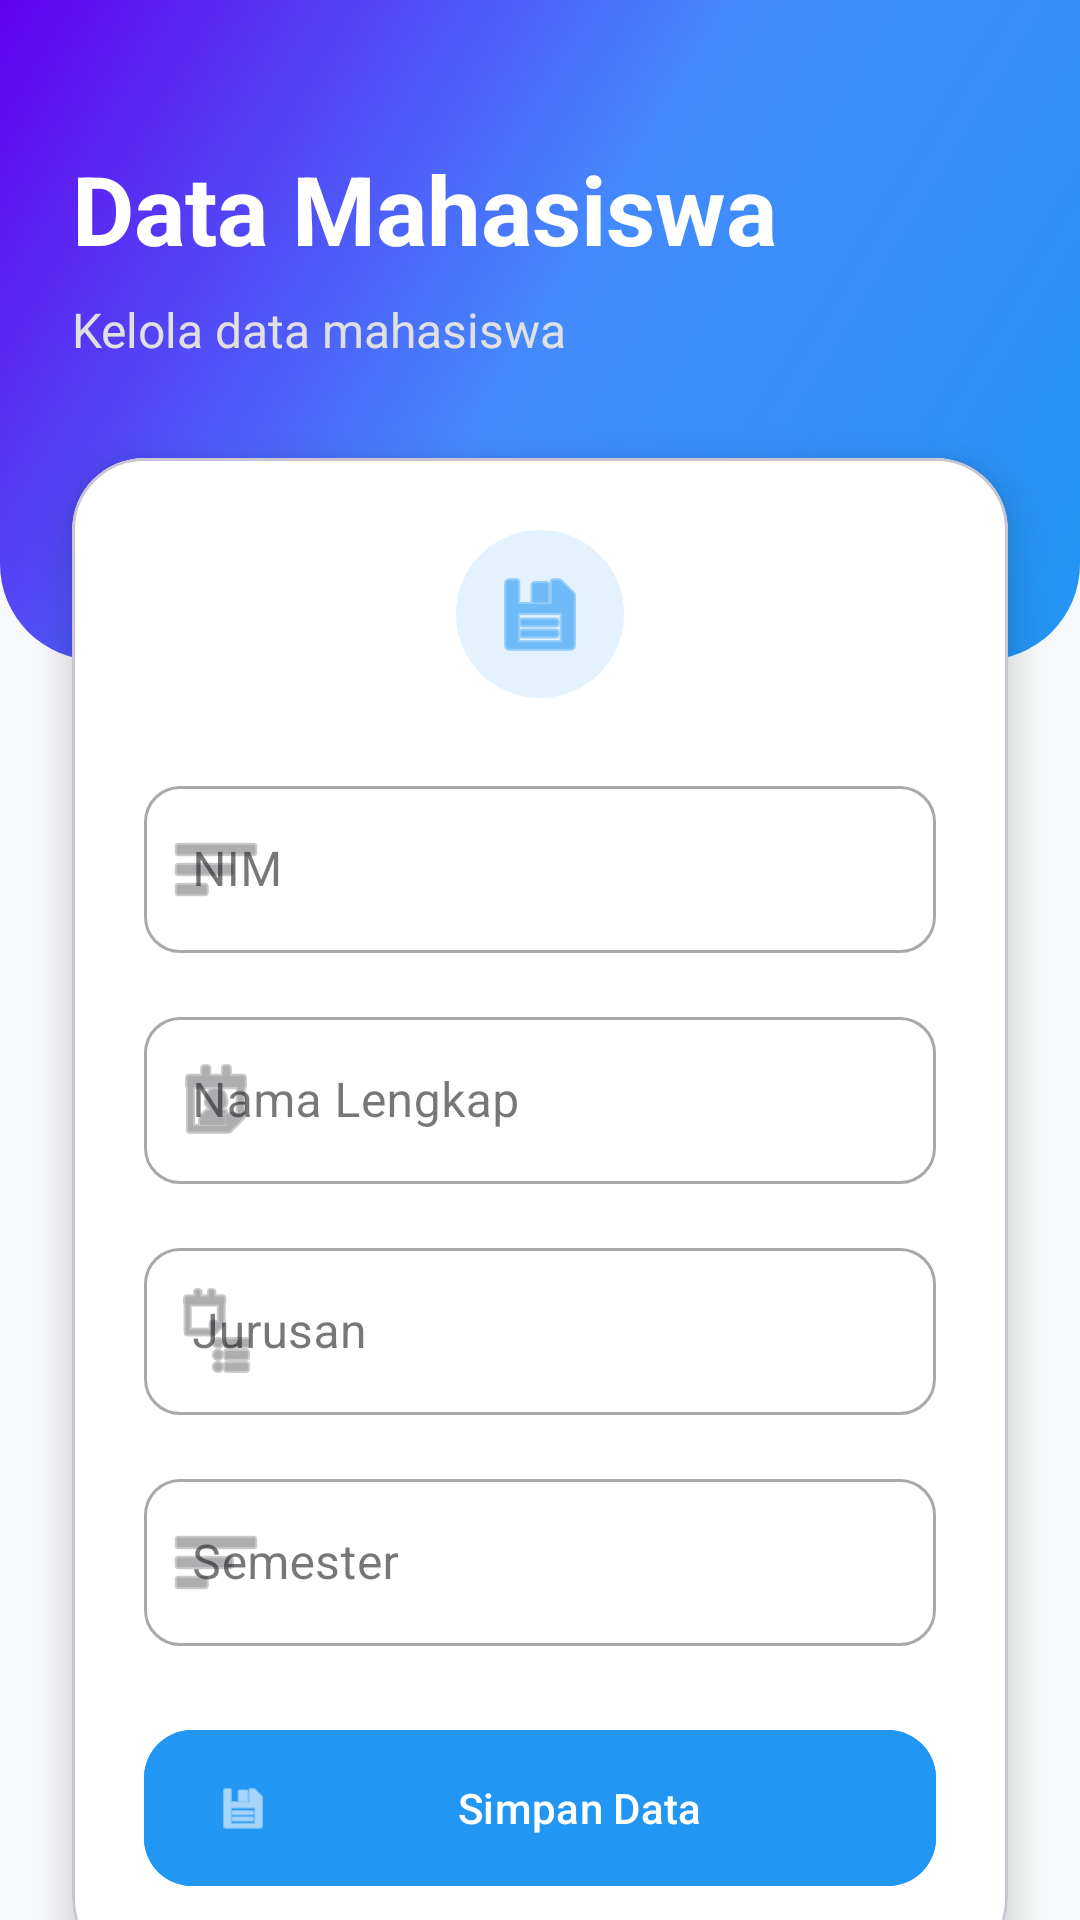

Icon click points for this 1080 x 1920 phone screenshot, format (x=x, y=y):
save: (x=540, y=614)
